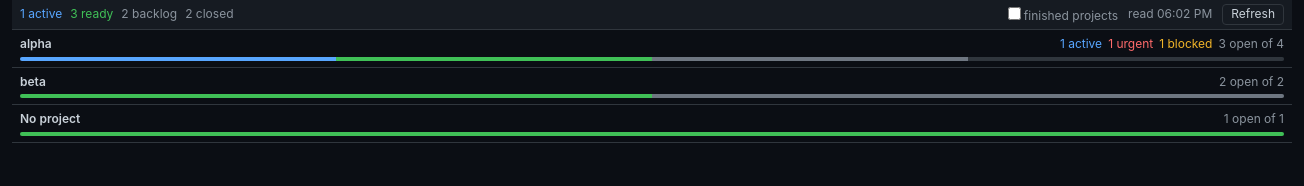
Test: ProjectsPane › keeps the last good list when a later read fails
This screenshot has width=1304, height=186.
expect the text "alpha" is shown: met, box [20,36,52,51]
Click the button "Refresh". click: (1253, 14)
box: [1222,4,1284,25]
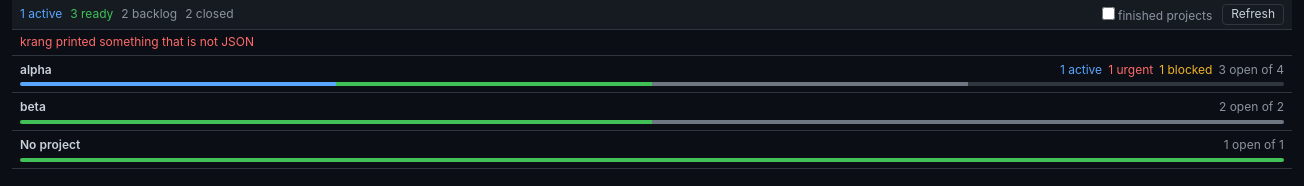
expect the text "alpha" is shown: met, box [20,62,52,77]
expect the message shows "not JSON": met, box [20,34,254,49]
